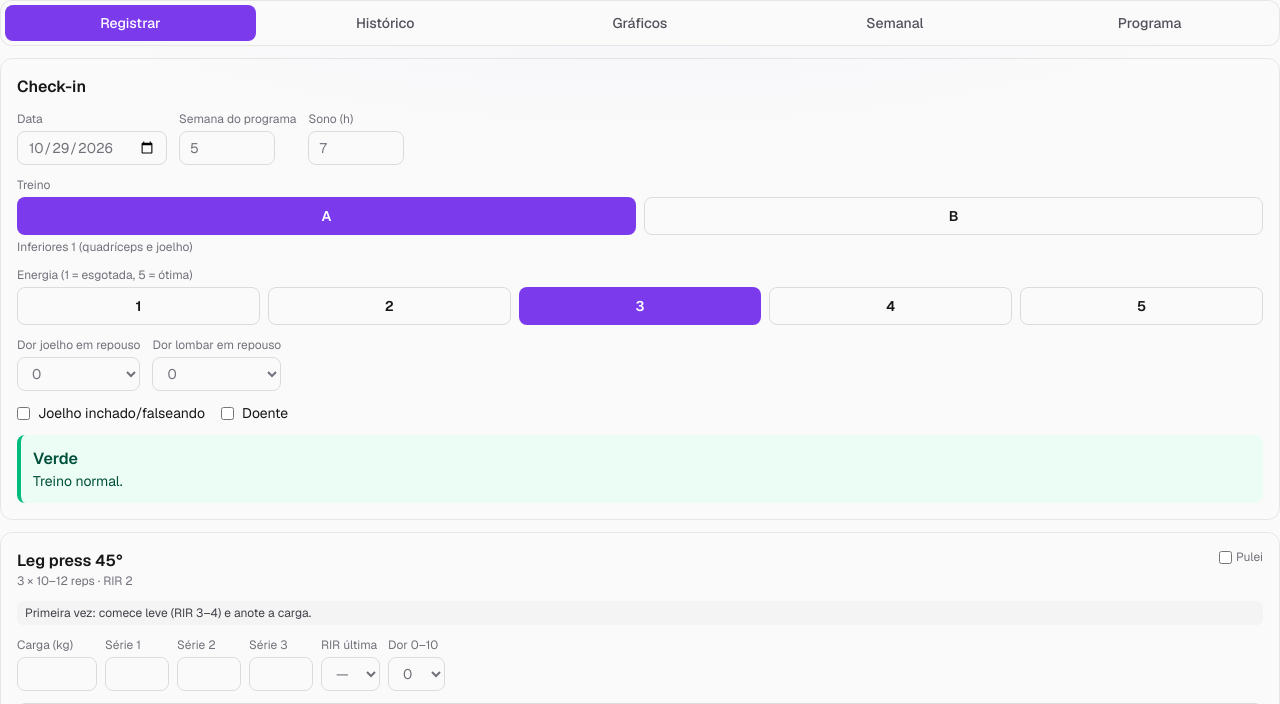
Test: TreinosWorkspace › histórico: dia só de cardio aparece como cardio, com a observação
What coordinates should you click on to do the following:
click the tab "Histórico"
I would click on:
 (385, 23)
Its box is [260,5,511,41].
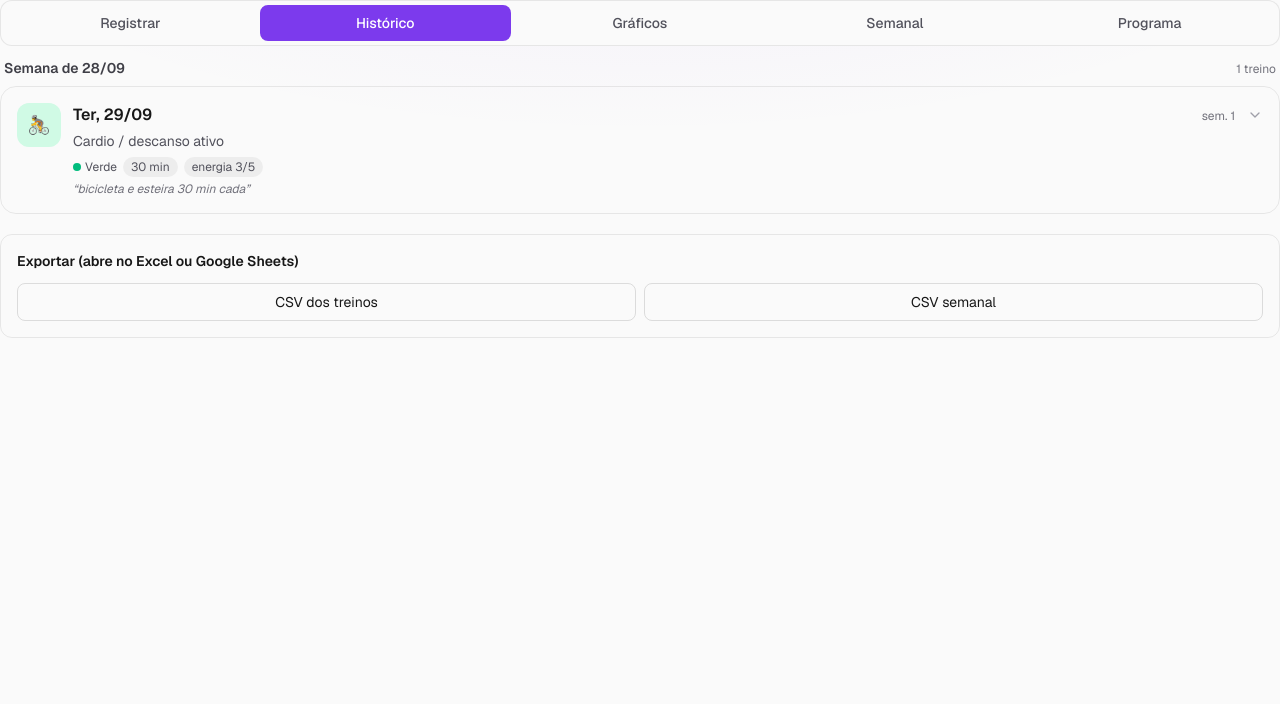
expect the text "Cardio / descanso ativo" is shown: met, box [73,132,224,150]
expect the text "30 min" is shown: met, box [123,157,178,177]
expect the text "“bicicleta e esteira 30 min cada”" is shown: met, box [73,181,250,197]
